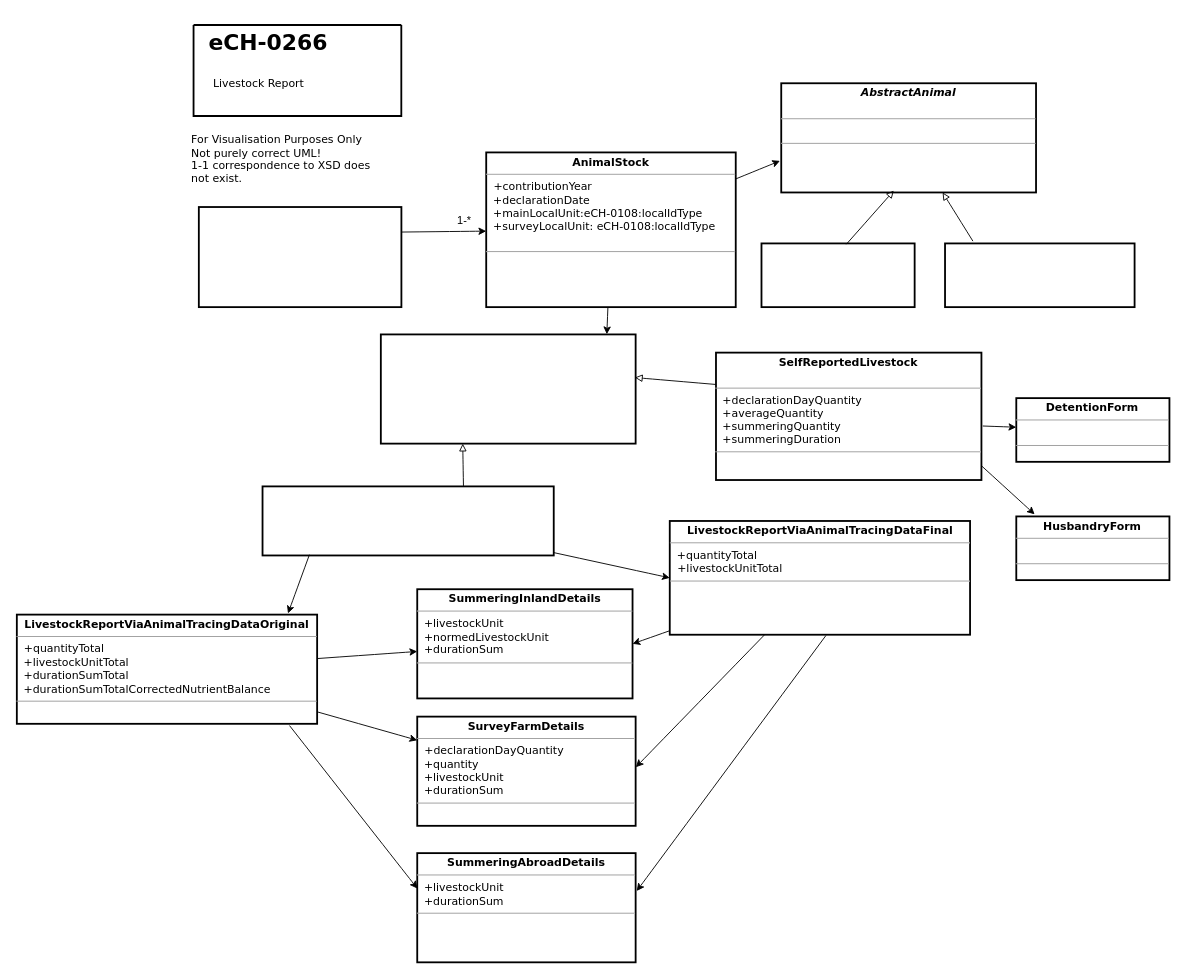
This 1186x978 diagram has some shape labels left out. Each missing label, with the centre of its shape:
"AbstractReportedLivestock" goes at [507,388].
"AnimalCategoryPRIF" goes at [837,275].
"AnimalCategoryStructural" goes at [1039,275].
"LivestockReportedViaAnimalTracing" goes at [407,520].
"LivestockSummaryReport" goes at [299,257].
